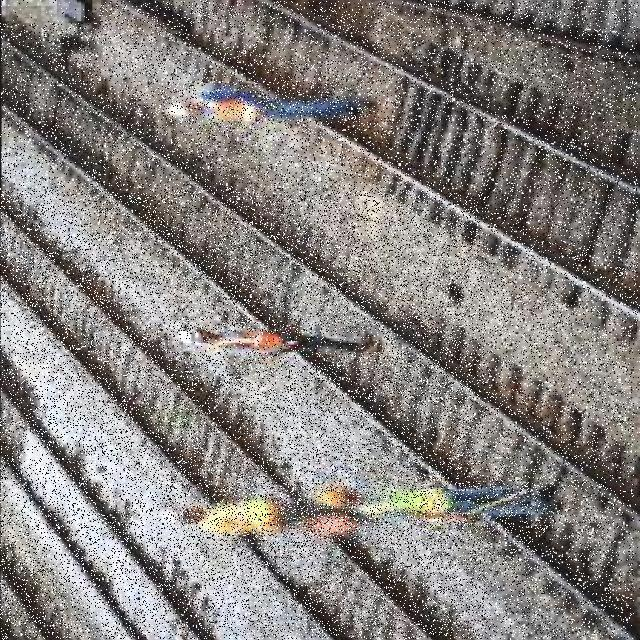rail: (1, 24, 635, 640), (1, 193, 486, 640), (100, 3, 639, 327)
